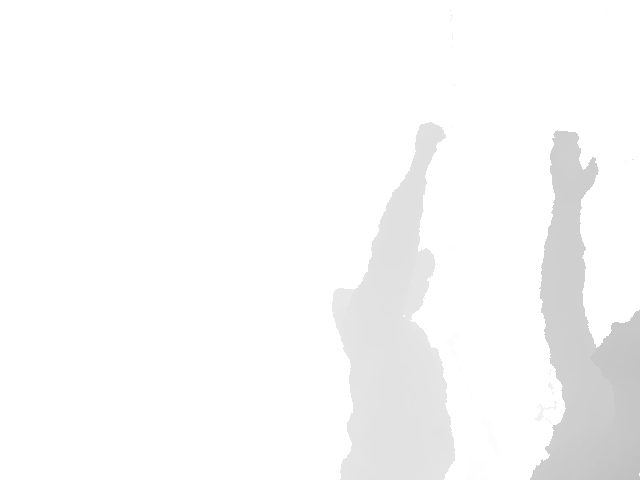hand: (549, 130, 598, 206), (414, 122, 446, 171)
head: (591, 307, 640, 408), (398, 247, 435, 318)
person: (330, 122, 457, 480), (528, 130, 640, 480)
